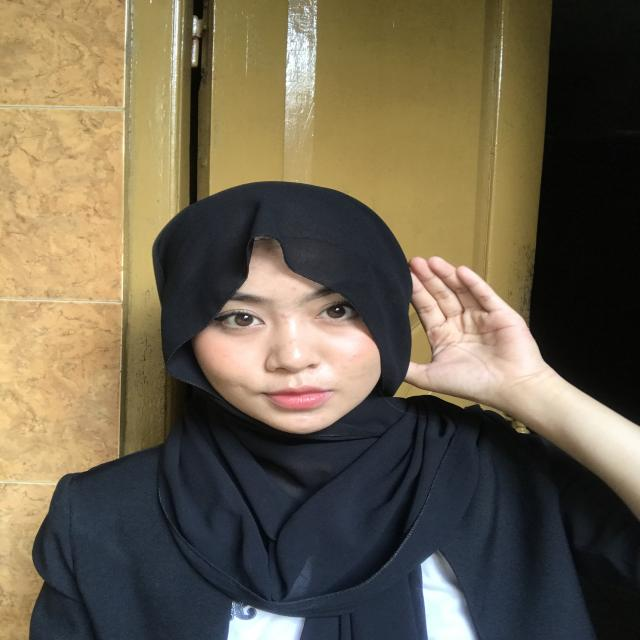mendengar: (358, 232, 576, 419)
